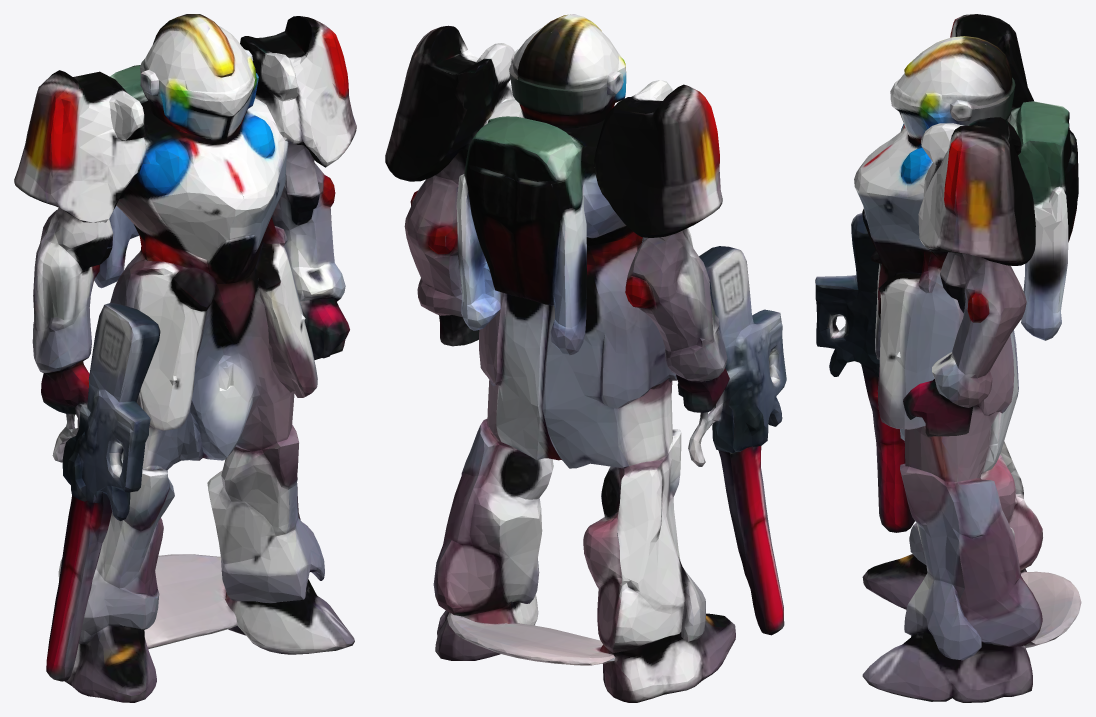
File: anime_modern_warrior.glb
3 views of the same model, side by side, from view 1: azimuth 30°, elevation 25°; view 2: azimuth 150°, elevation 25°; view 3: azimuth 270°, elevation 25° (orthographic). The views are drawn at different scales.
Visible parts, largest first — view 1: geometry_0; view 2: geometry_0; view 3: geometry_0.
Boxes of the visible parts, x1,y1,x2,y2 form: geometry_0: (14,14,356,702); geometry_0: (385,14,786,702); geometry_0: (815,14,1081,702).
Bounding box in the file's own units: 0.5654 × 0.9998 × 0.3944.
1 material, 1 textured.
